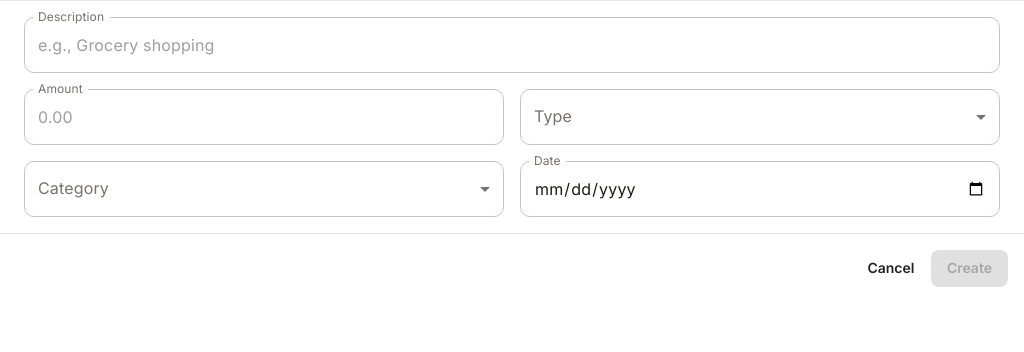
Test: TransactionForm › rejects a zero or negative amount
In the field labelled "Description": (512, 45) x1=24 y1=17 x2=1000 y2=73, type "Coffee"
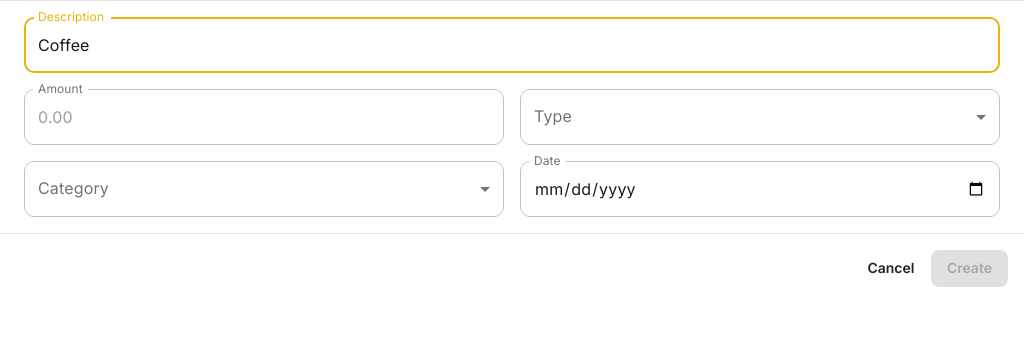
In the number field labelled "Amount": (264, 117) x1=24 y1=89 x2=504 y2=145, type "-5"
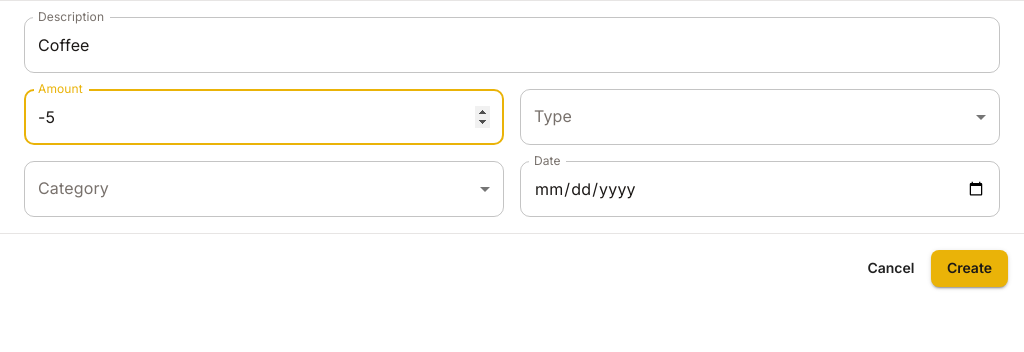
Click the button "Create": (969, 268) x1=931 y1=250 x2=1008 y2=286
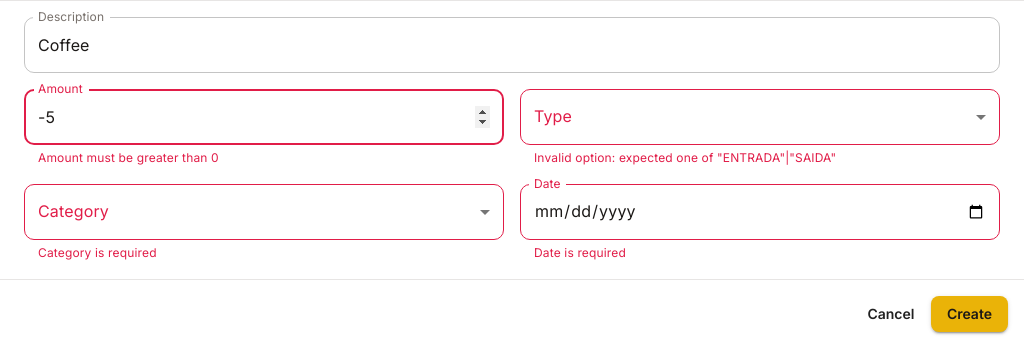
Check: the text "Amount must be greater than 0" is shown, box x1=38 y1=150 x2=219 y2=165
